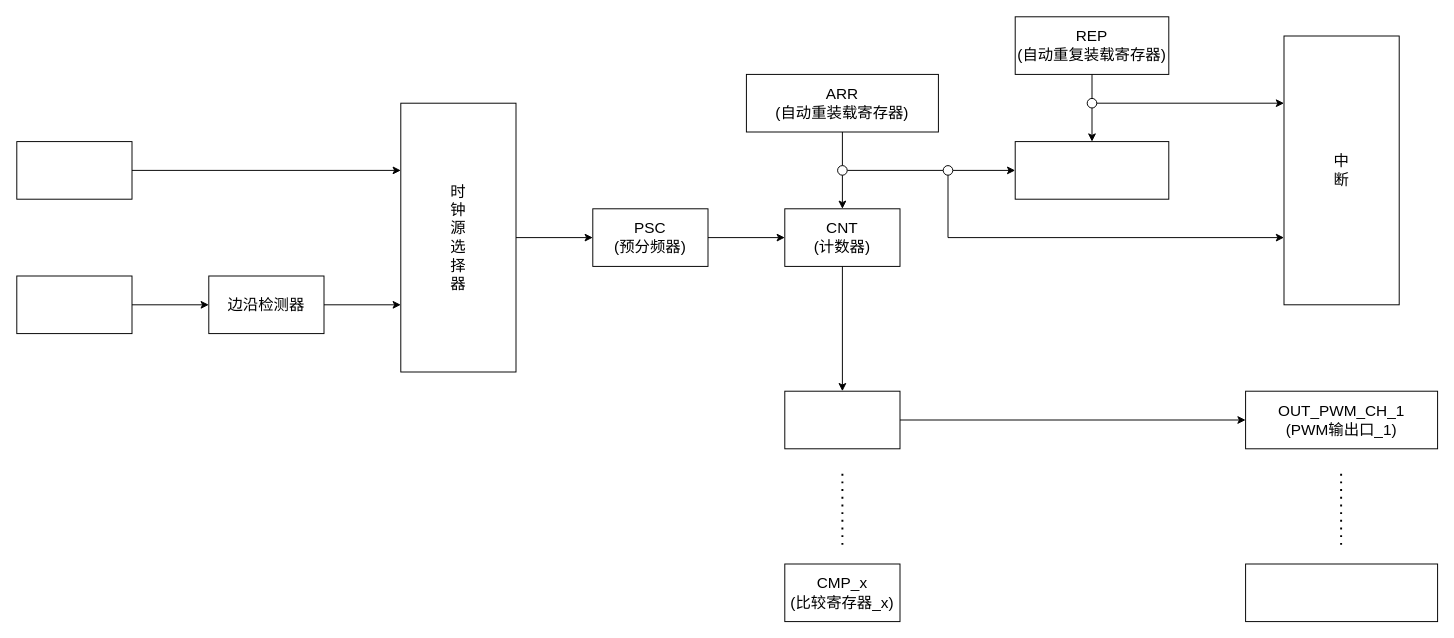
The diagram is 1454 pixels wide and 638 high, and some of its shapes have lost their labels. The centre of each missing label's shape, as x and y in pixels:
"CMP_1 (比较寄存器_1)" belongs at (x=842, y=419).
"OUT_PWM_CH_x (PWM输出口_x)" belongs at (x=1341, y=592).
"RCNT (重复次数计数器)" belongs at (x=1091, y=170).
"TIM_out_clk (外部时钟)" belongs at (x=74, y=304).
"内部时钟" belongs at (x=74, y=170).
